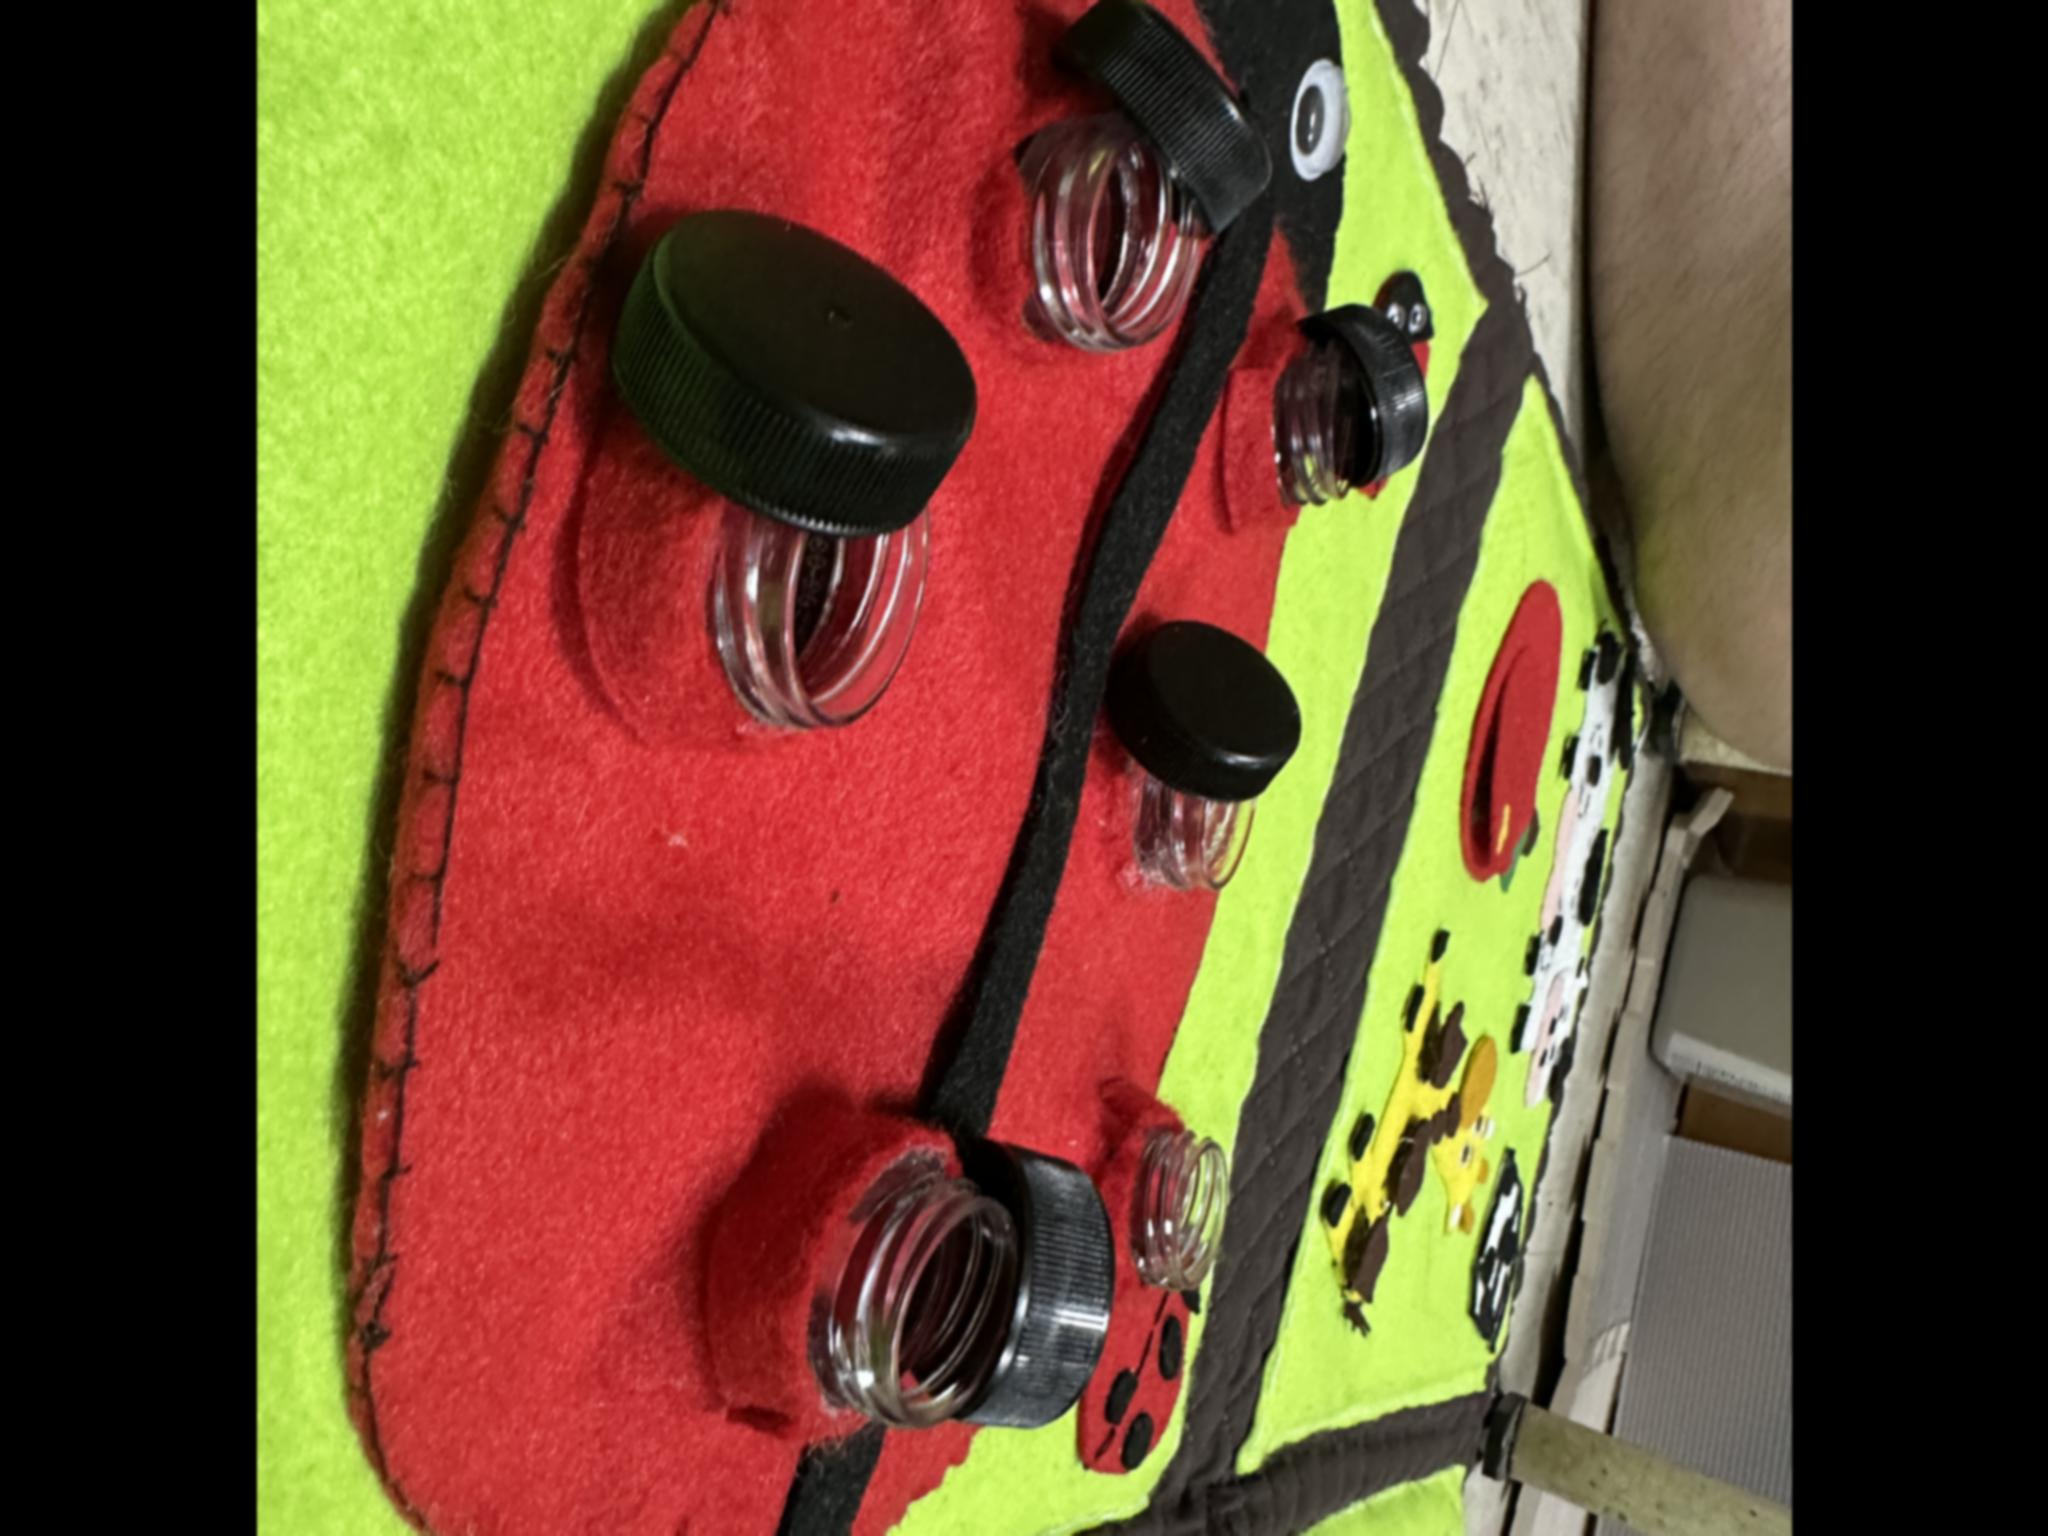cap_ng: (564, 201, 982, 763), (670, 1118, 1120, 1460), (986, 0, 1275, 368), (1096, 615, 1316, 919), (1207, 290, 1451, 564)
